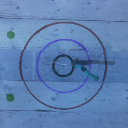Axe Tip: (76, 60, 89, 64)
